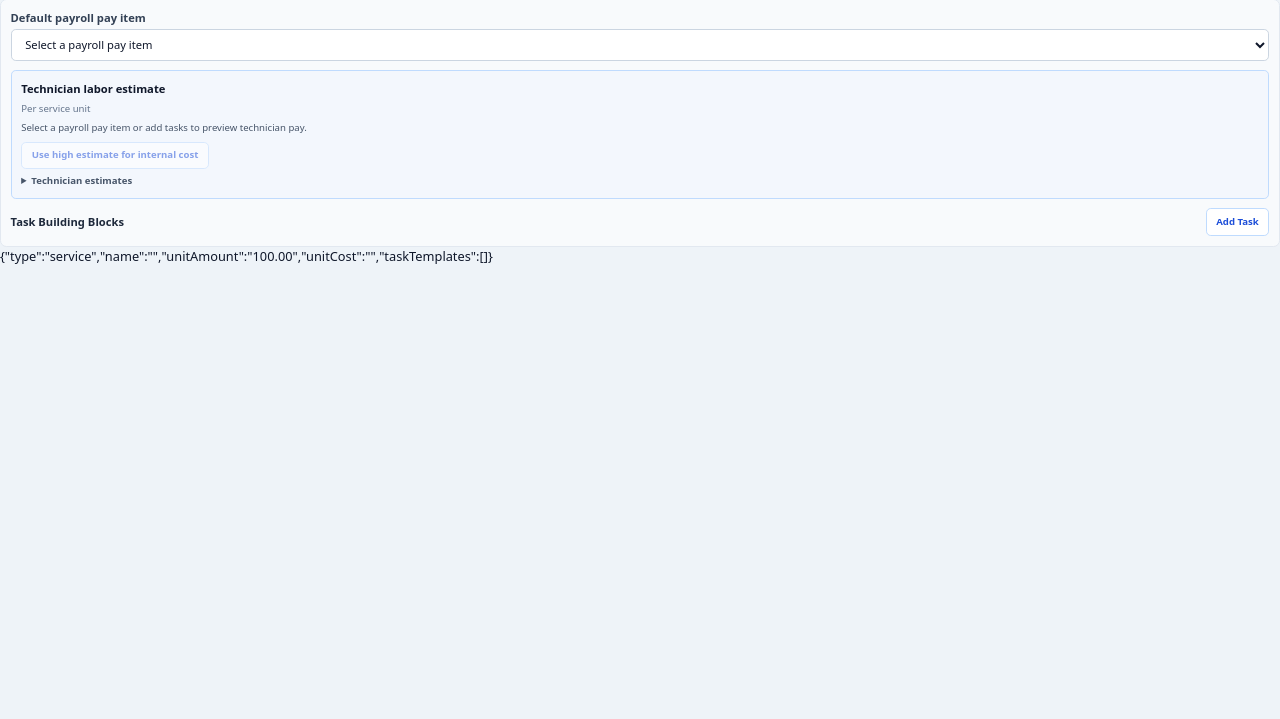
Test: pay item selection fills task details, previews the range, and applies internal cost without changing price
Select "Filter clean" in the dropdown labelled "Default payroll pay item" at (640, 45), box [11,29,1269,61]
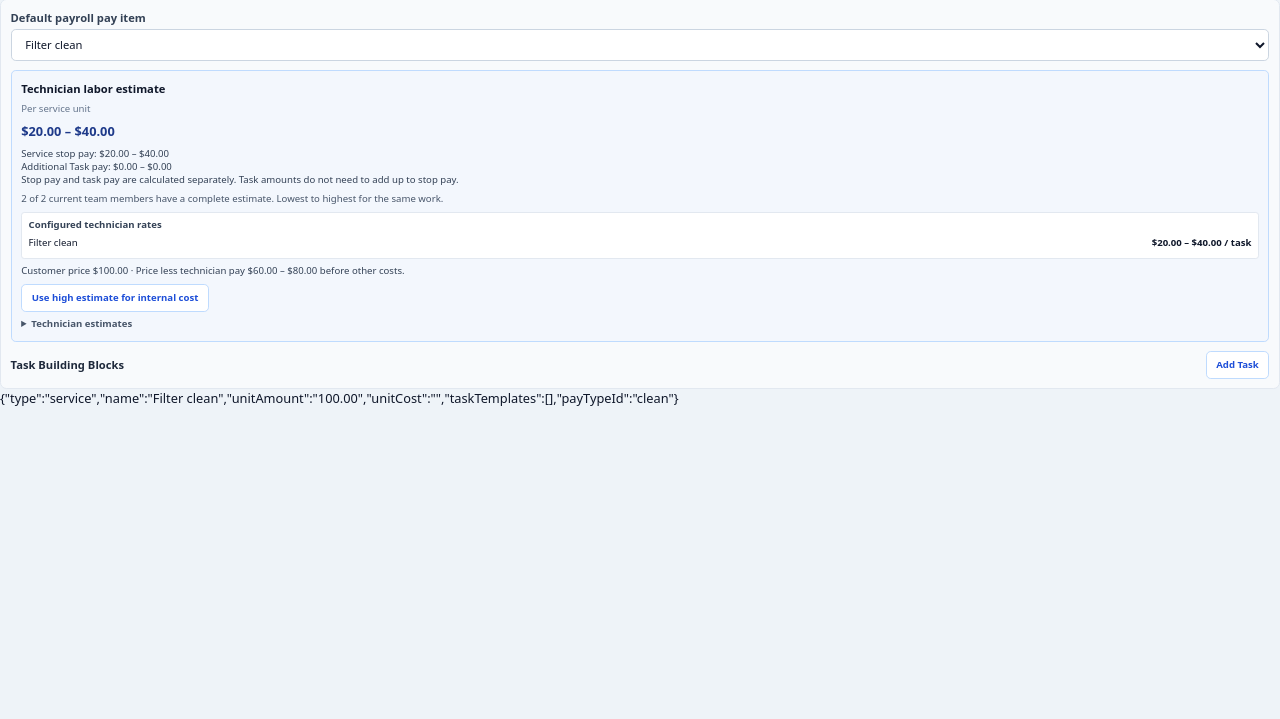
Click the button "Use high estimate for internal cost" at (115, 298), box [21,284,209,312]
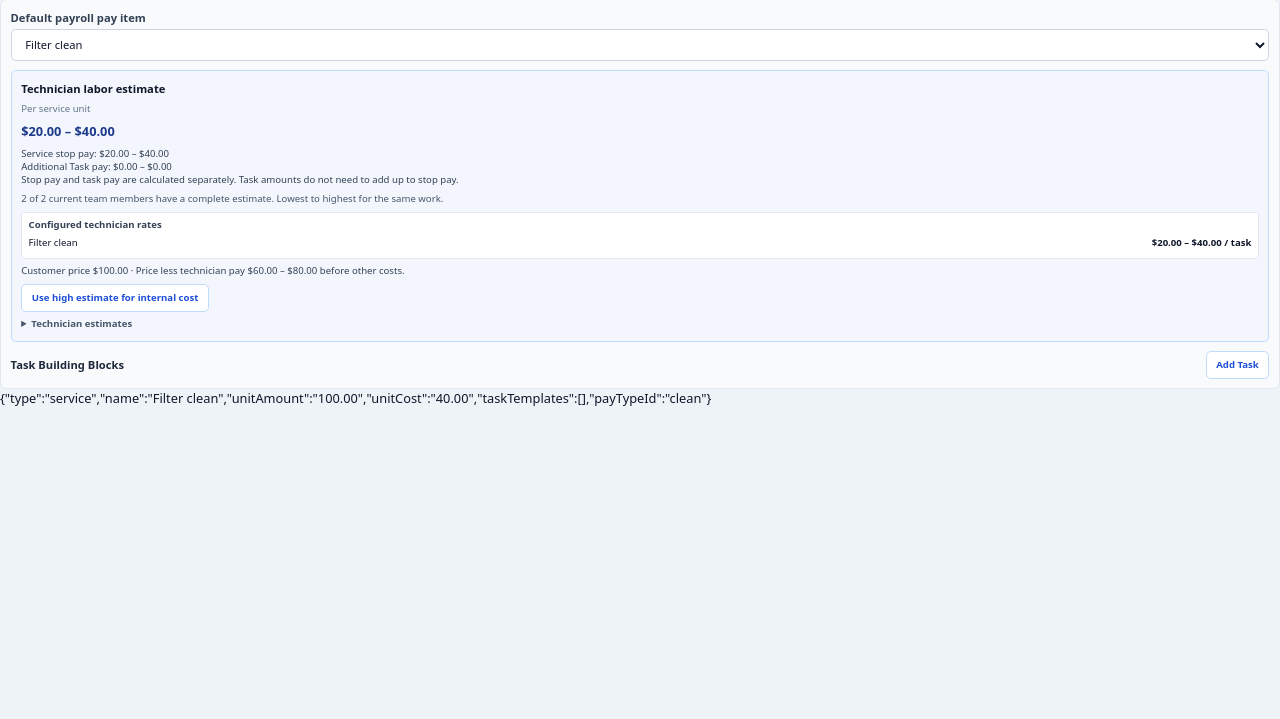
Click the button "Add Task" at (1238, 365), box [1206,351,1270,379]
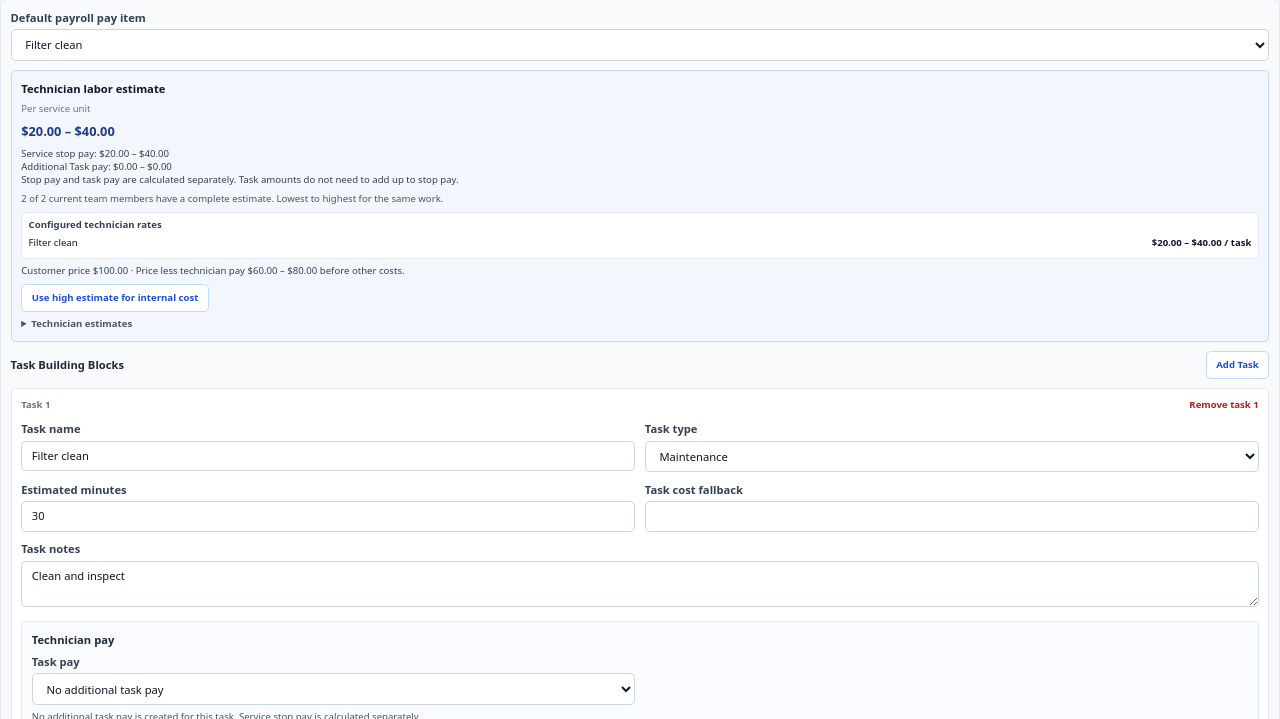
Check: the field labelled "Task name" holds "Filter clean", box [21,440,635,471]
Check: the dropdown labelled "Task type" shows "Maintenance", box [645,440,1259,472]
Check: the number field labelled "Estimated minutes" holds "30", box [21,501,635,532]
Select "Additional Task pay" in the dropdown labelled "Task pay" at (334, 689), box [32,673,635,705]
(page scrolled)
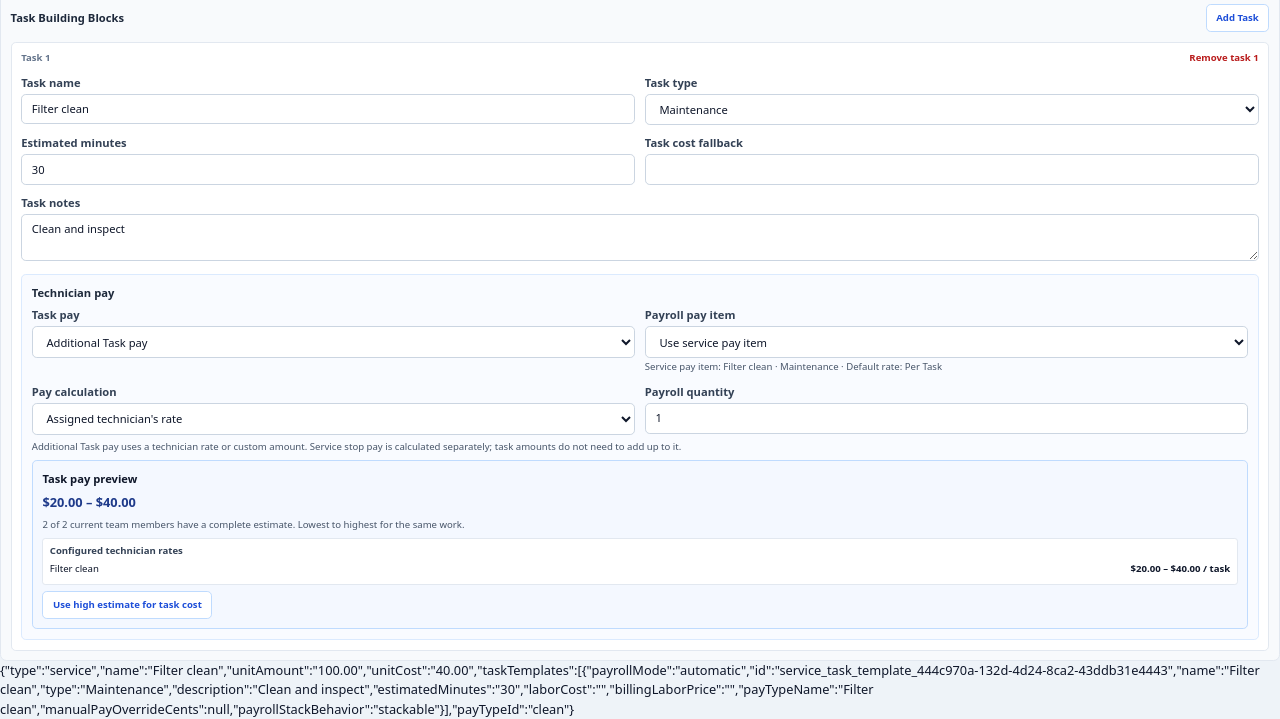
Select "Custom amount" in the dropdown labelled "Pay calculation" at (334, 419), box [32,403,635,435]
(page scrolled)
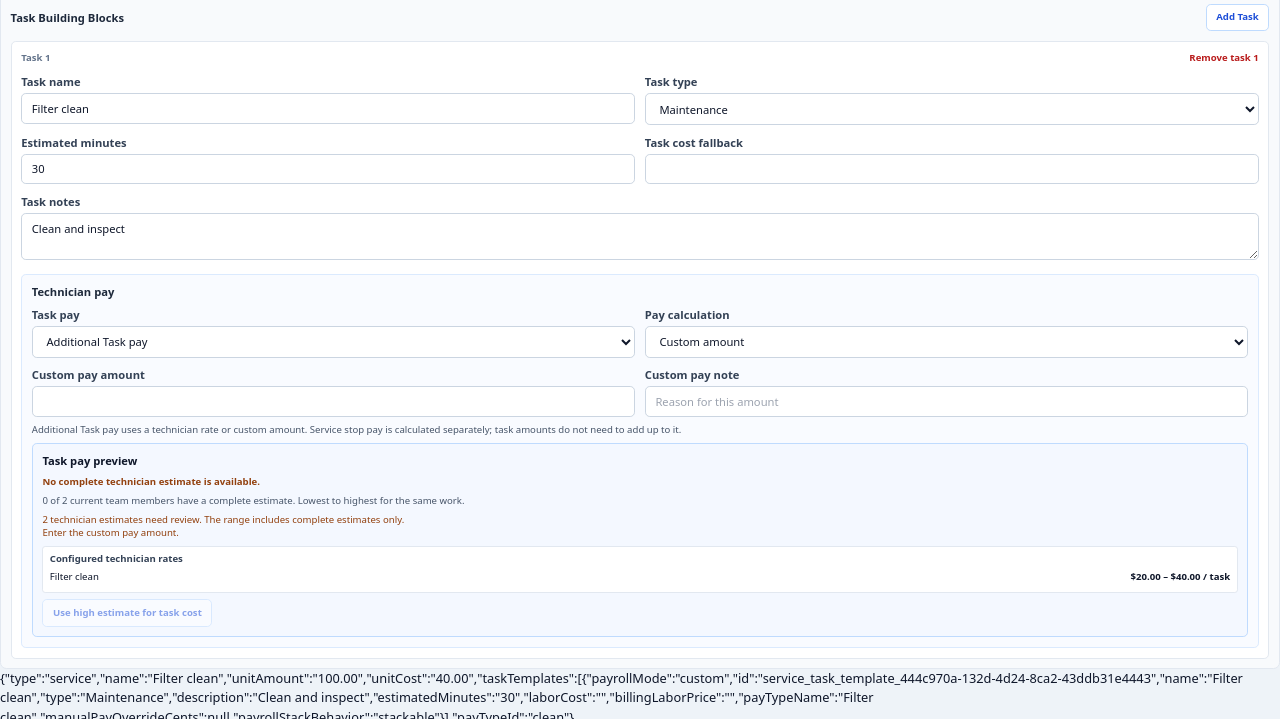
Type "15" into the number field labelled "Custom pay amount" at (334, 402), box [32,386,635,417]
(page scrolled)
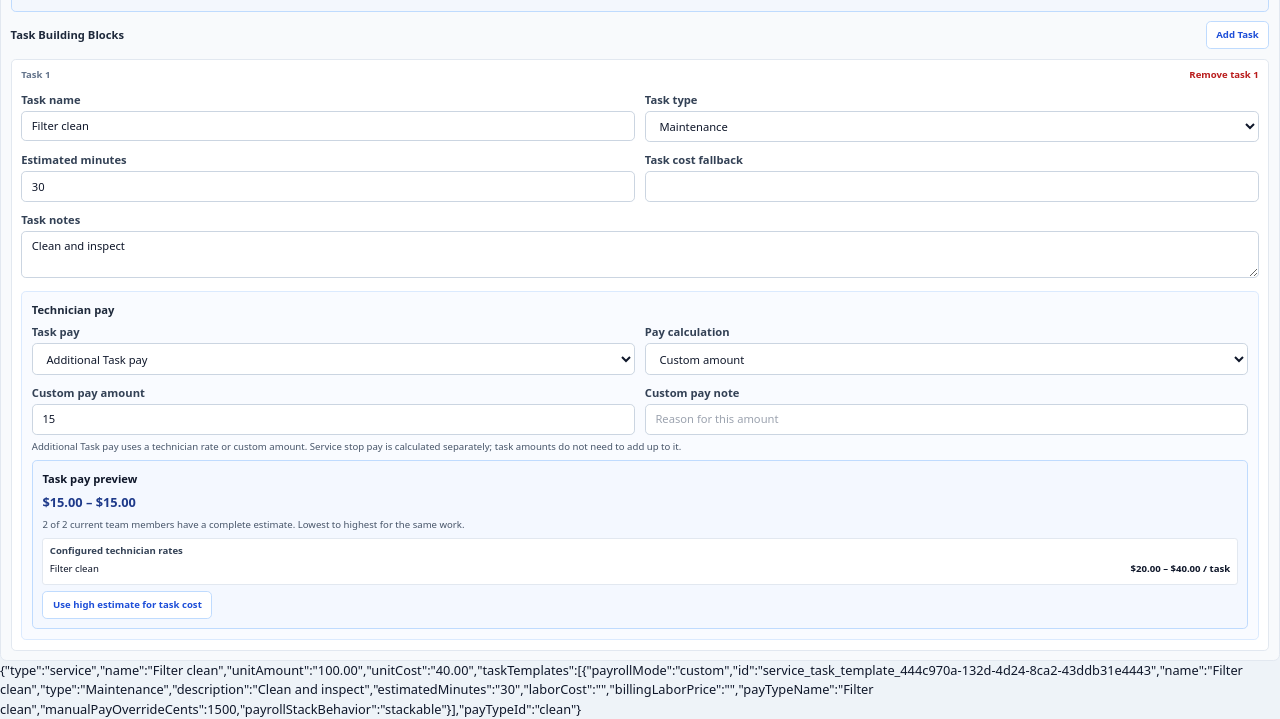
Check: the text "$15.00 – $15.00" is shown, box [42,493,136,511]
